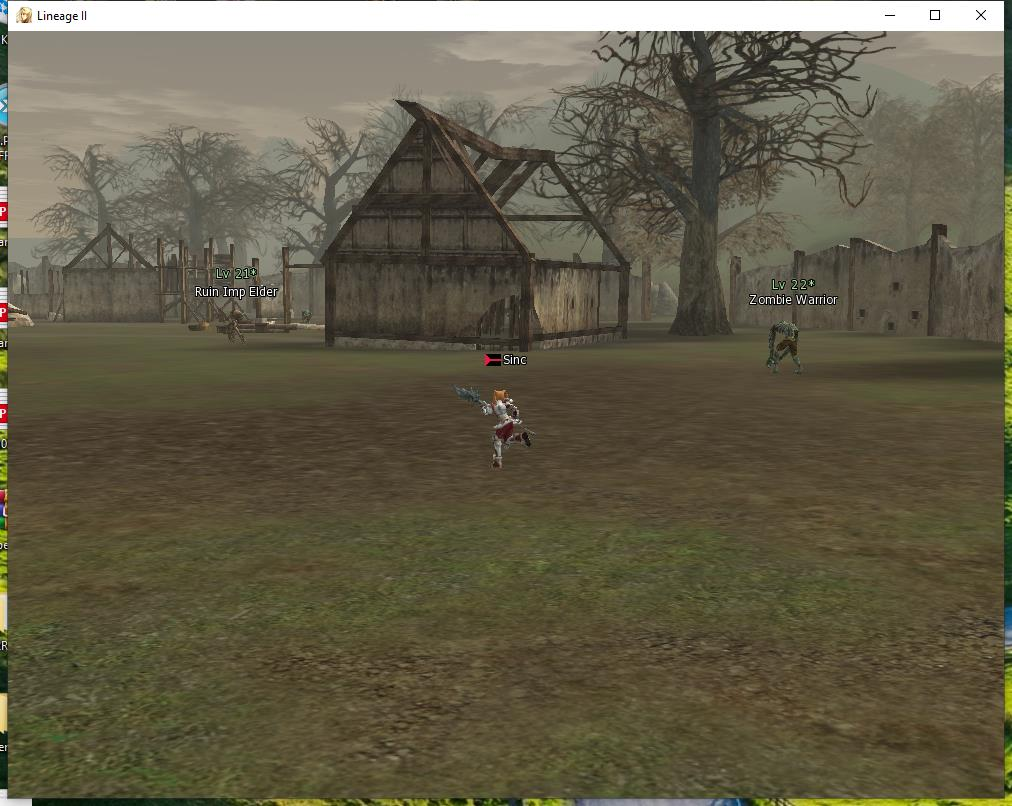monster: (749, 269, 845, 383), (194, 259, 275, 352)
